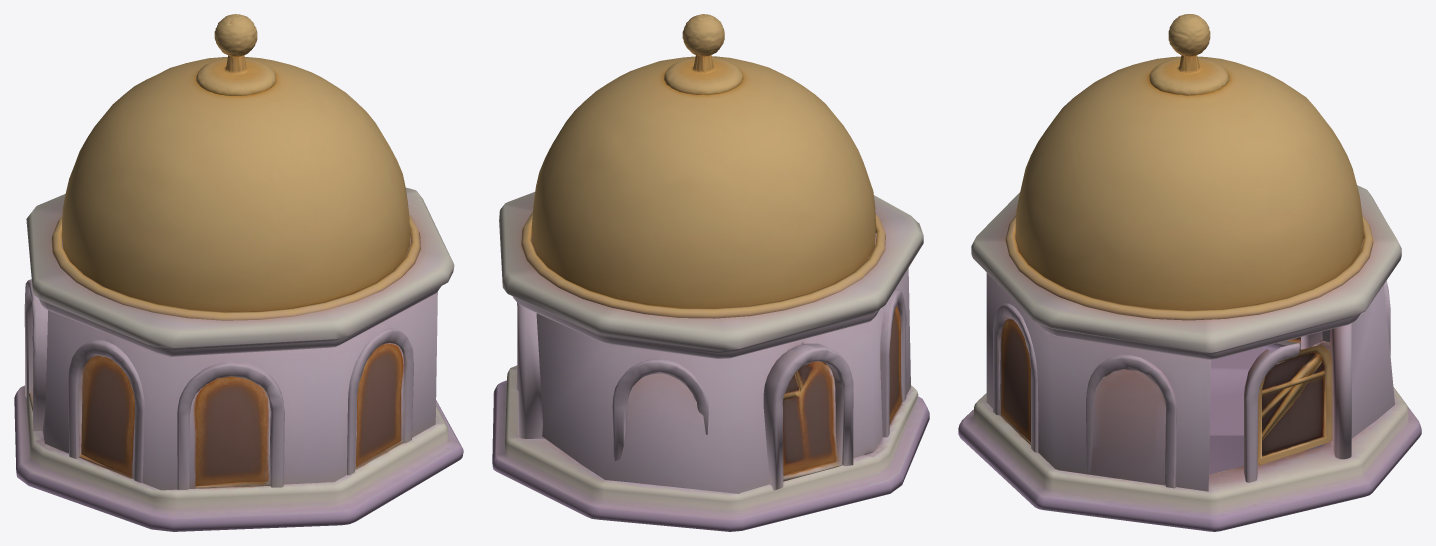
Rendered from r33-dome.glb.
3 views of the same model, side by side, from view 1: azimuth 30°, elevation 25°; view 2: azimuth 150°, elevation 25°; view 3: azimuth 270°, elevation 25° (orthographic).
Visible parts, largest first — view 1: tripo_node_0ae59315-0558-4449-a483-88a527497d55; view 2: tripo_node_0ae59315-0558-4449-a483-88a527497d55; view 3: tripo_node_0ae59315-0558-4449-a483-88a527497d55.
Part boxes in pixels (x1=…): tripo_node_0ae59315-0558-4449-a483-88a527497d55: x1=14, y1=14, x2=463, y2=531; tripo_node_0ae59315-0558-4449-a483-88a527497d55: x1=492, y1=14, x2=929, y2=531; tripo_node_0ae59315-0558-4449-a483-88a527497d55: x1=958, y1=14, x2=1421, y2=531.
Bounding box in the file's own units: 0.998 × 0.998 × 0.998.
Materials: 1 (1 with a texture image).
